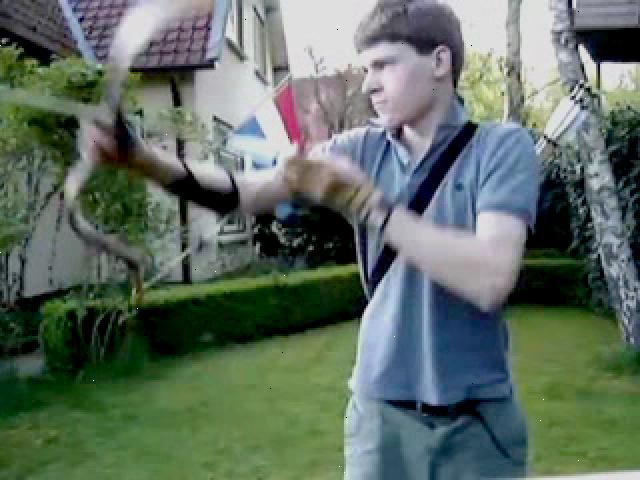P: (0, 4, 634, 475)
